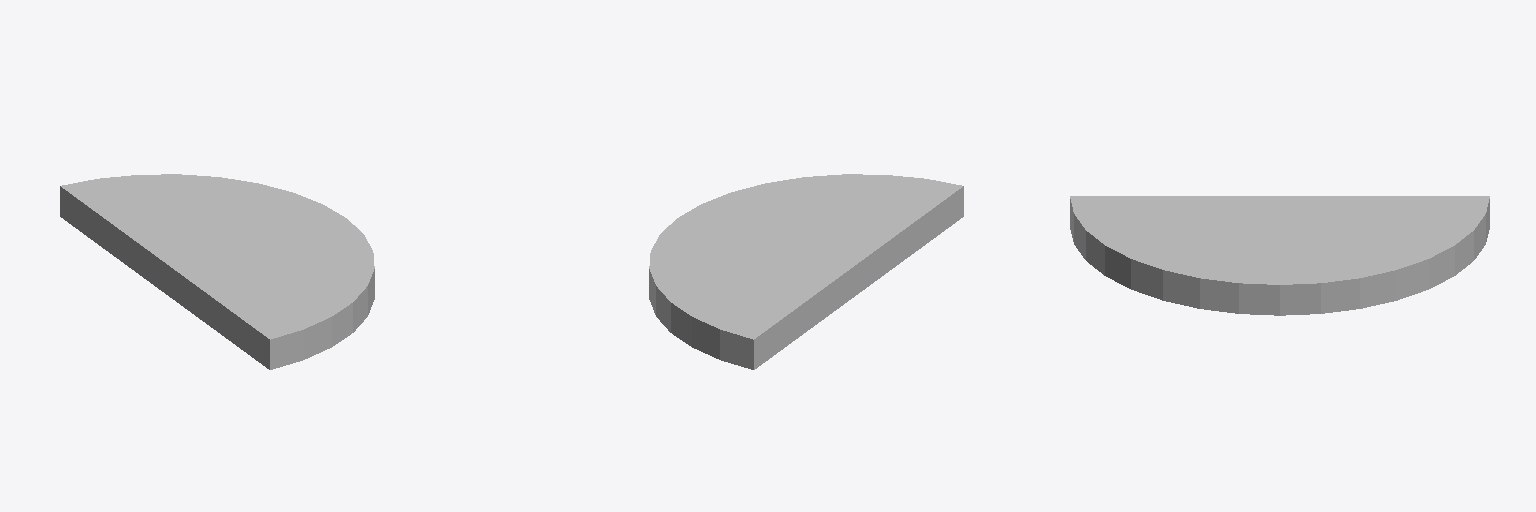
The model's file is HQGate.obj.
3 renders of one model, left to right at view 1: azimuth 30°, elevation 25°; view 2: azimuth 150°, elevation 25°; view 3: azimuth 270°, elevation 25°, orthographic.
Visible parts, largest first — view 1: Cylinder; view 2: Cylinder; view 3: Cylinder.
Boxes of the visible parts, <box> form: Cylinder: <box>60,174,374,369</box>; Cylinder: <box>649,174,963,369</box>; Cylinder: <box>1070,196,1489,315</box>.
Size of the model in its own units: 1.05 by 0.1691 by 2.1.